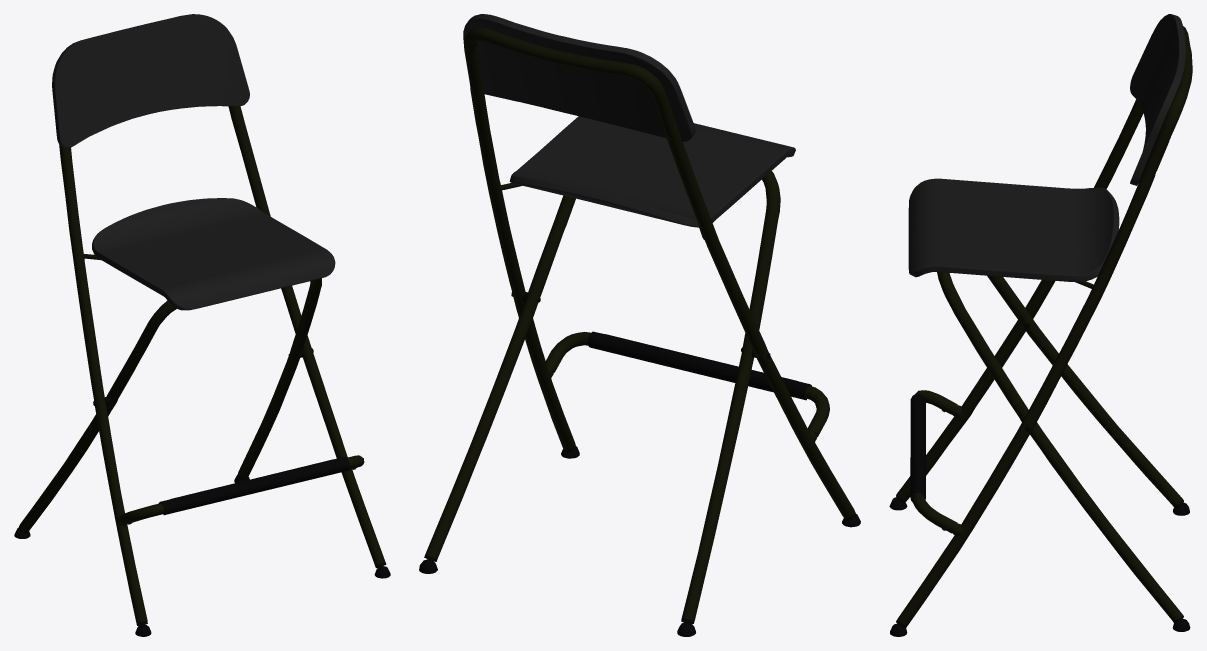
Rendered from franklin_taboret_skadany_z_oparciem_50406465.glb.
3 views of the same model, side by side, from view 1: azimuth 30°, elevation 25°; view 2: azimuth 150°, elevation 25°; view 3: azimuth 270°, elevation 25° (orthographic). The views are drawn at different scales.
Parts seen in each view (by area): view 1: franklin_taboret_skadany_z_oparciem_50406465; view 2: franklin_taboret_skadany_z_oparciem_50406465; view 3: franklin_taboret_skadany_z_oparciem_50406465.
Boxes of the visible parts, left/top/right/bottom form: franklin_taboret_skadany_z_oparciem_50406465: left=14, top=14, right=390, bottom=636; franklin_taboret_skadany_z_oparciem_50406465: left=419, top=14, right=860, bottom=636; franklin_taboret_skadany_z_oparciem_50406465: left=889, top=14, right=1192, bottom=636.
Size of the model in its own units: 0.5212 by 0.949 by 0.4984.
Materials: 1 (1 with a texture image).
